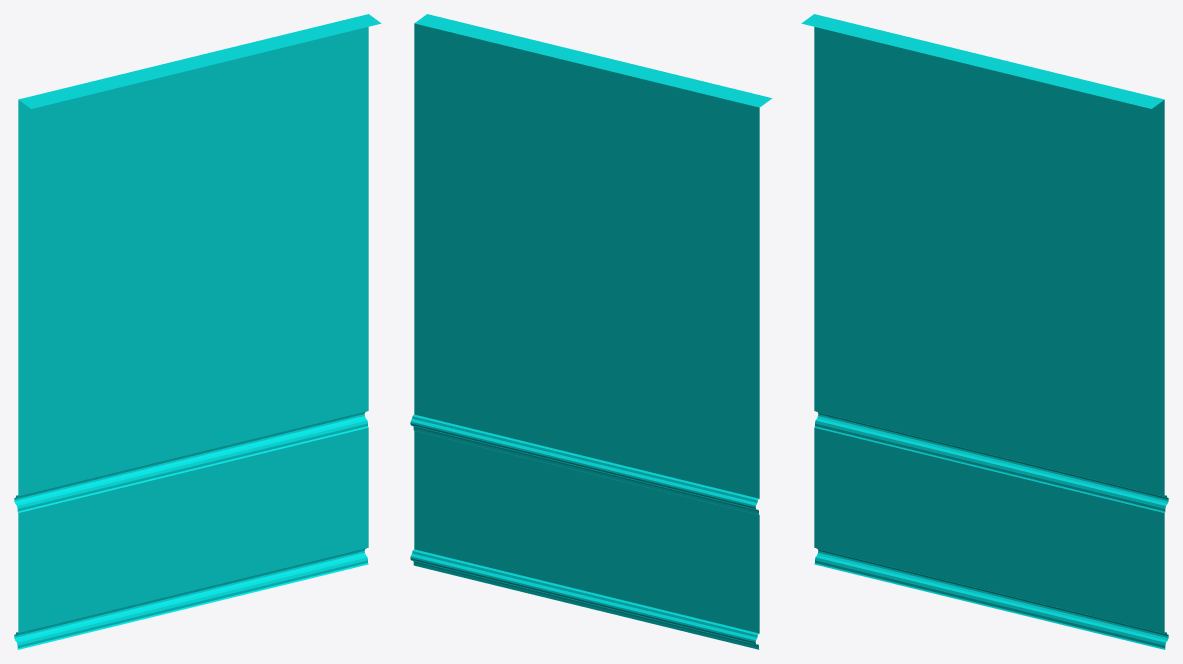
Rendered from SetoModWall.fbx.
3 renders of one model, left to right at view 1: azimuth 30°, elevation 25°; view 2: azimuth 150°, elevation 25°; view 3: azimuth 330°, elevation 25°, orthographic.
Visible parts, largest first — view 1: ModWall; view 2: ModWall; view 3: ModWall.
Boxes of the visible parts, x1,y1,x2,y2 form: ModWall: [14, 14, 381, 649]; ModWall: [410, 14, 772, 649]; ModWall: [801, 14, 1168, 649].
Bounding box in the file's own units: 240 × 360 × 20.25.
